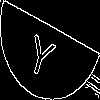Y: (25, 24, 59, 80)
